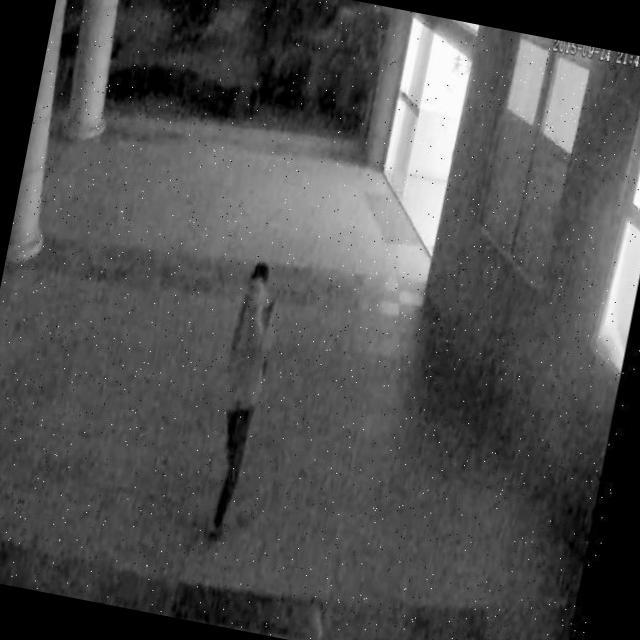person: (181, 244, 303, 576)
